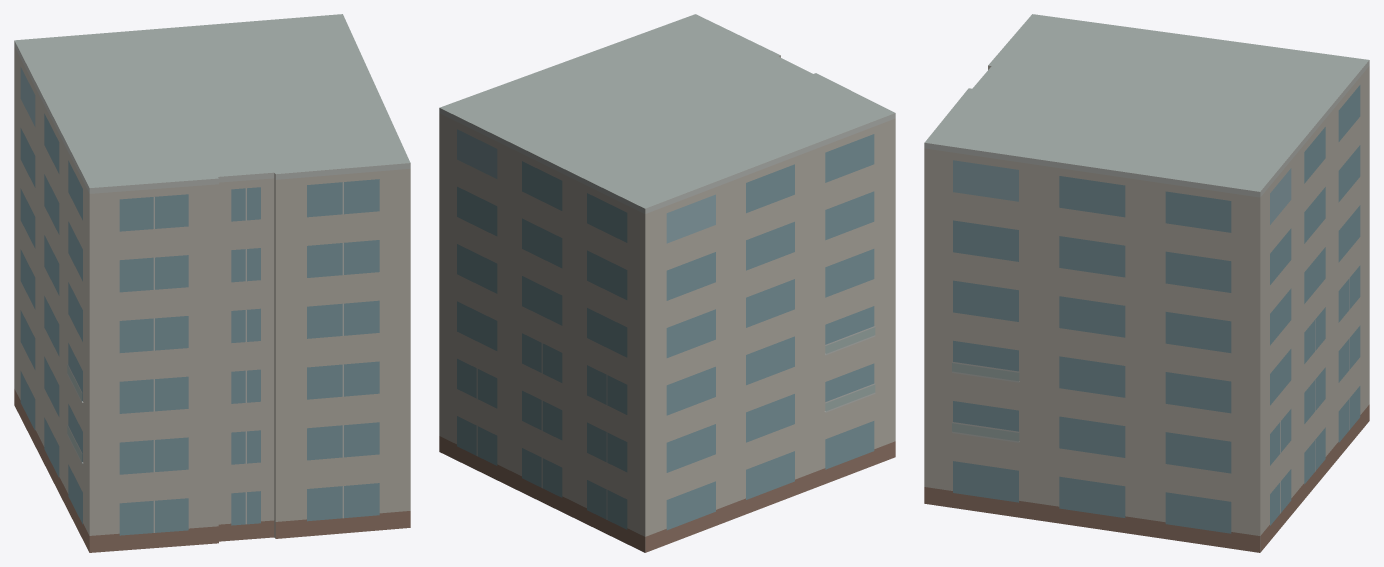
The model's file is survey-upis-32890055.glb.
3 views of the same model, side by side, from view 1: azimuth 30°, elevation 25°; view 2: azimuth 150°, elevation 25°; view 3: azimuth 270°, elevation 25° (orthographic). The views are drawn at different scales.
Visible parts, largest first — view 1: survey-upis-32890055.tmp; view 2: survey-upis-32890055.tmp; view 3: survey-upis-32890055.tmp.
Part boxes in pixels (x1,y1,x2,y2): survey-upis-32890055.tmp: (14,14,410,552); survey-upis-32890055.tmp: (439,14,895,552); survey-upis-32890055.tmp: (924,14,1369,552).
Bounding box in the file's own units: 16.5 × 15.6 × 17.44.
